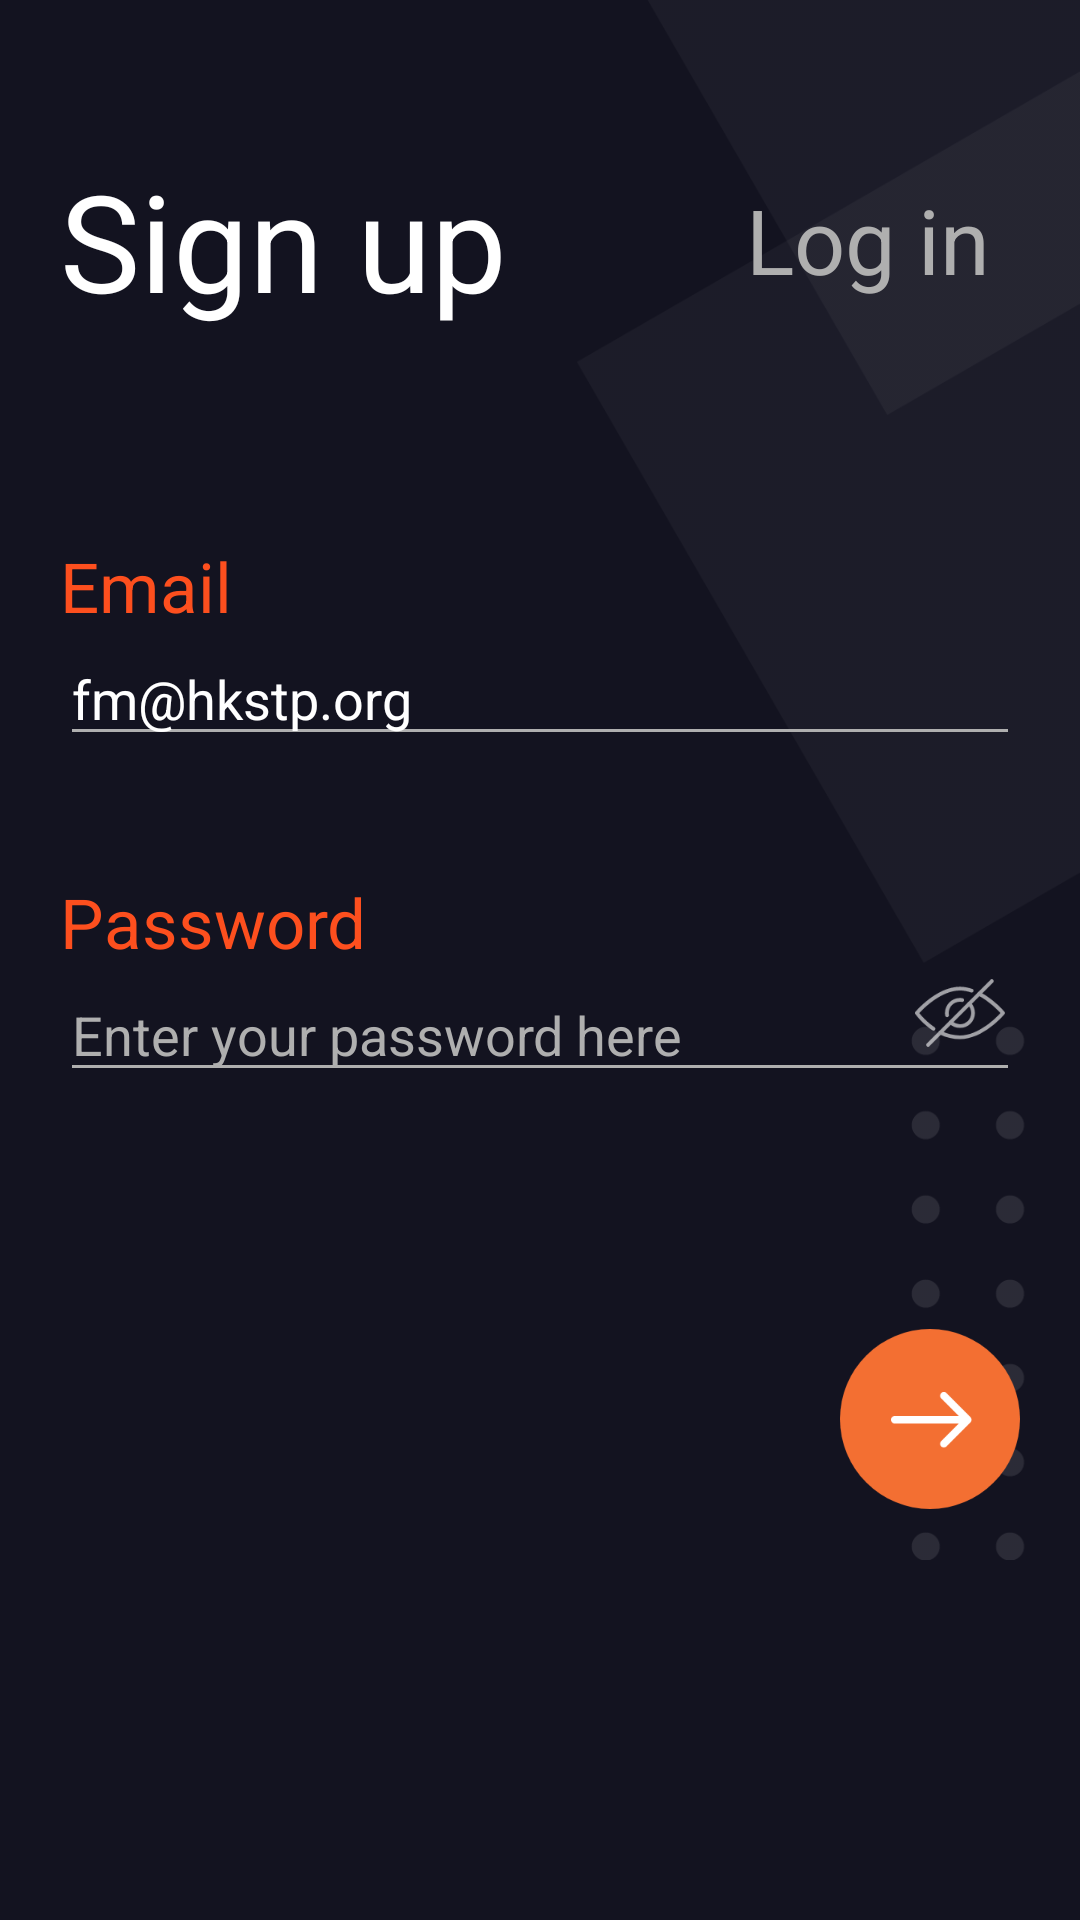

Icon click points for this 1080 × 1920 phone screenshot, format (x=x, y=y):
log in arrow: (x=930, y=1419)
see password: (x=960, y=1013)
